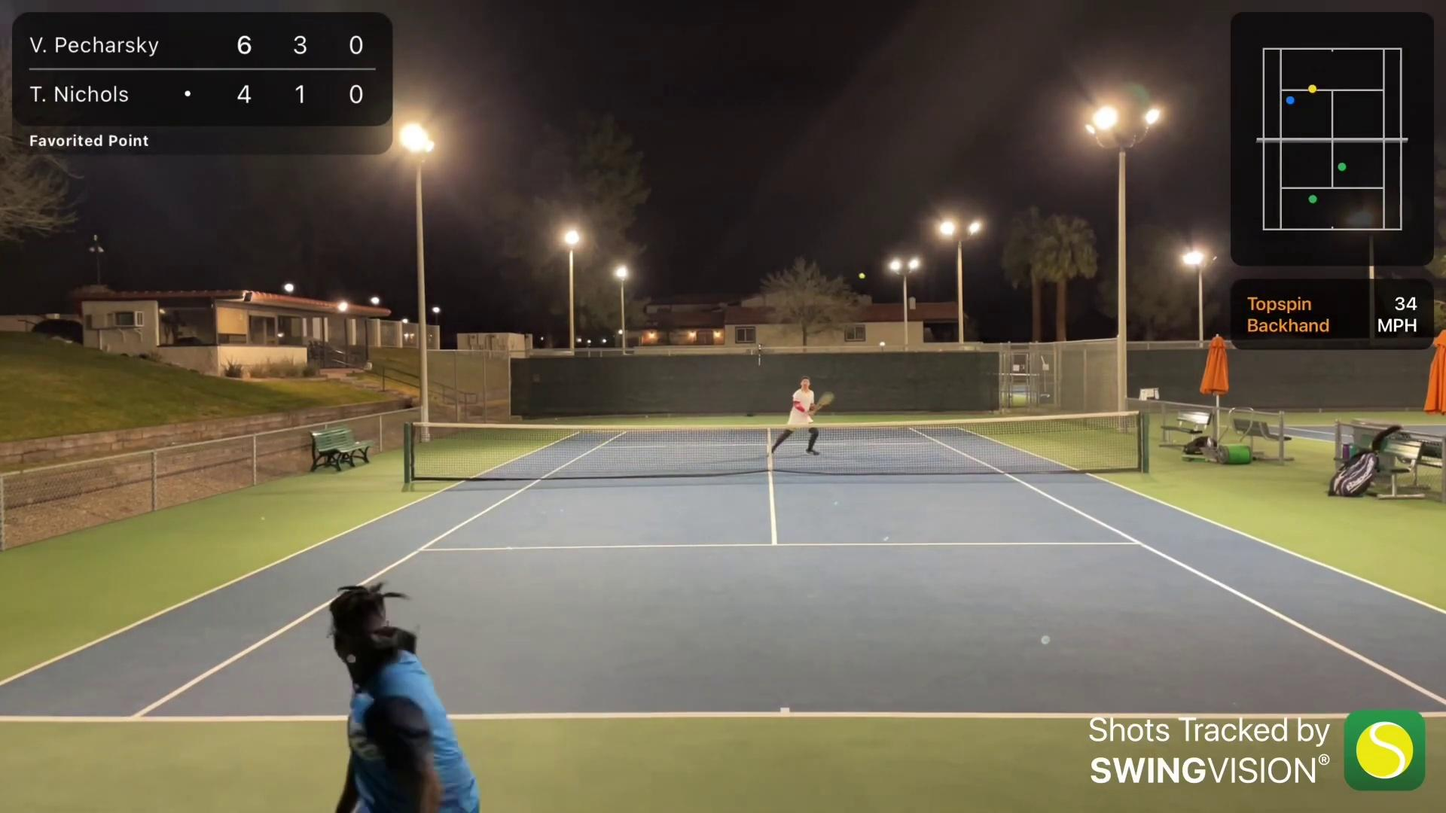ball: (859, 273, 867, 281)
